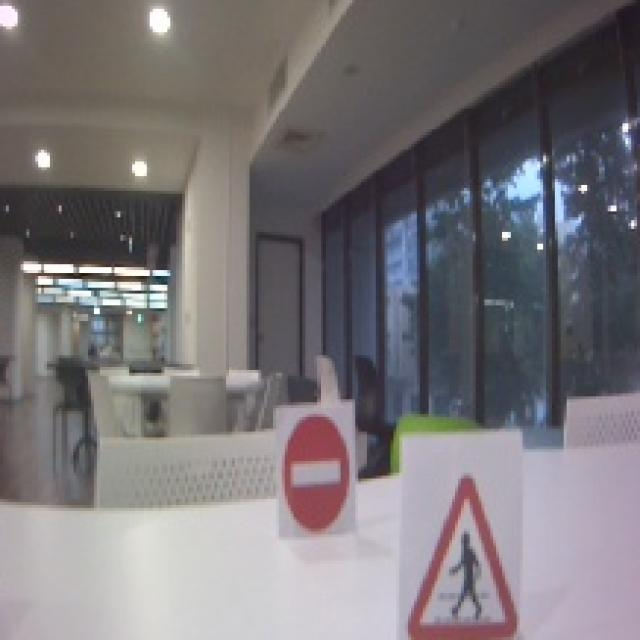DoNotEnterSign: (279, 410, 354, 532)
